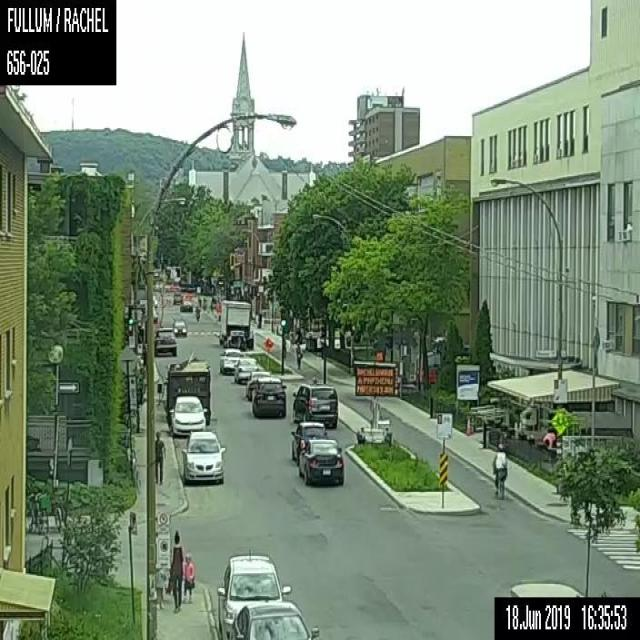construction: (354, 360, 394, 446), (263, 337, 273, 350), (376, 352, 382, 359)
cyclist: (491, 443, 507, 500), (295, 343, 302, 368)
pedestrian: (164, 529, 182, 612), (182, 552, 194, 604), (154, 429, 165, 483)
vehicle: (217, 554, 290, 638), (225, 600, 319, 639), (181, 431, 225, 484), (298, 438, 343, 486), (292, 382, 338, 428), (217, 300, 253, 348), (290, 421, 327, 463), (249, 376, 286, 417), (169, 396, 207, 435), (245, 371, 270, 399), (153, 326, 176, 356), (233, 358, 259, 382), (218, 348, 242, 373), (226, 329, 246, 348), (172, 319, 186, 336), (179, 300, 192, 311), (172, 290, 182, 304), (194, 304, 200, 322), (152, 308, 157, 322), (152, 294, 157, 306)
